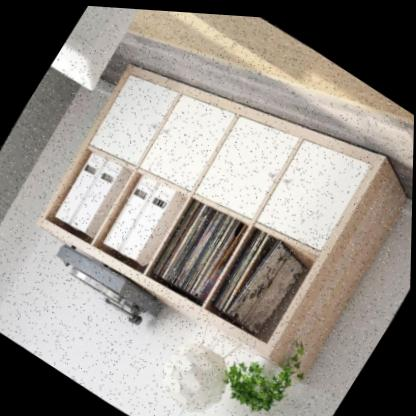Shelf: (21, 1, 416, 400)
